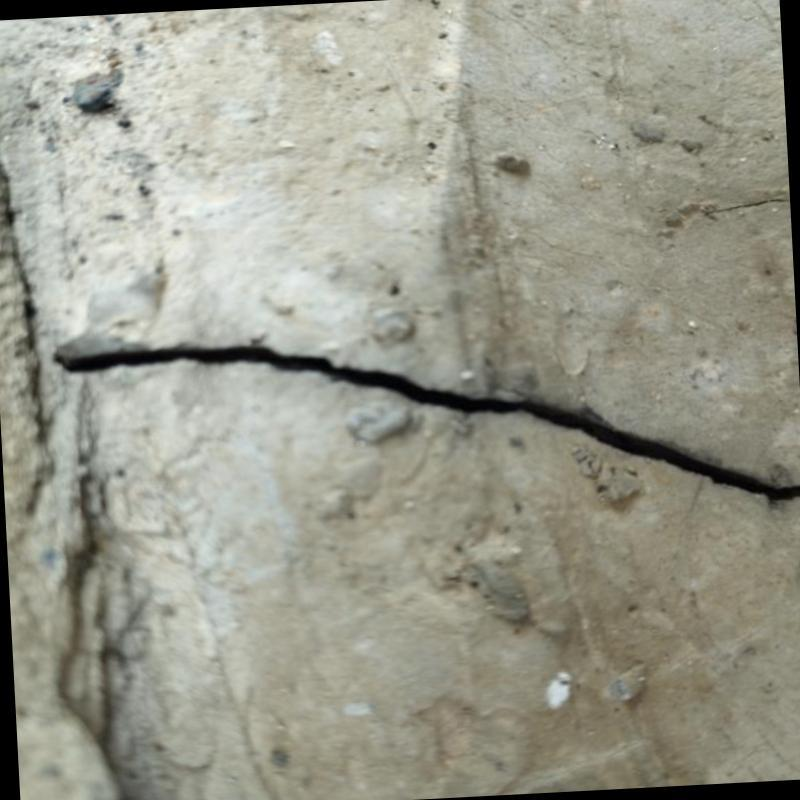crack: (55, 346, 800, 501)
